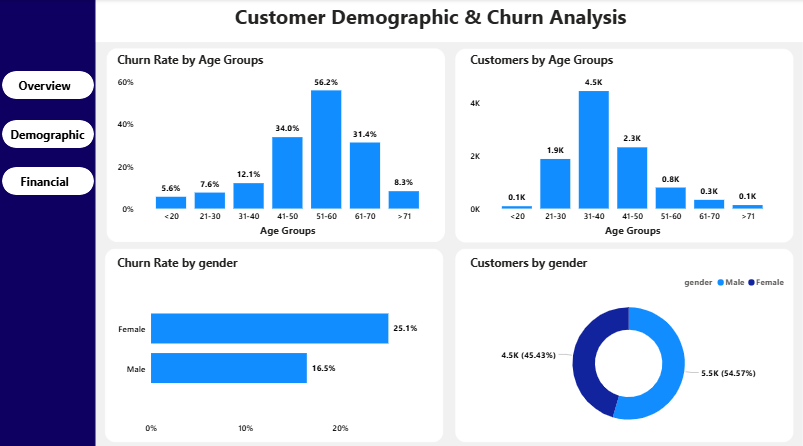

The dashboard page shown, as its layout file describes it:
{"tool":"powerbi","page":{"name":"Demograhpic","canvas":[1280,720],"ordinal":1},"visuals":[{"type":"clusteredColumnChart","fields":{"Y":["Measures (2).Churn Rate"],"Category":["Dim_Age Groups.Age Groups"]},"box":[181.7,83.3,516.7,300],"z":0},{"type":"clusteredColumnChart","fields":{"Category":["Dim_Age Groups.Age Groups"],"Y":["Measures (2).Customers"]},"box":[743.3,83.3,501.7,300],"z":1000},{"type":"clusteredBarChart","fields":{"Y":["Measures (2).Churn Rate"],"Category":["Dim_Gender.gender"]},"box":[181.7,406.7,505,295],"z":2000},{"type":"donutChart","fields":{"Y":["Measures (2).Customers"],"Category":["Dim_Gender.gender"]},"box":[743.3,406.7,515,295],"z":3000},{"type":"actionButton","box":[3.2,114.7,146.5,44.6],"z":4000},{"type":"actionButton","box":[3.2,192.7,146.5,44.6],"z":5000},{"type":"actionButton","box":[3.2,267.6,146.5,44.6],"z":6000},{"type":"textbox","box":[203.9,0,963.7,57.3],"z":7000}]}

Visuals, with their boxes in screenshot pixels (x1, y1, x2, y2), scaled from the page's 1280x720 canvas onto the 803x446 screenshot:
clusteredColumnChart - Measures (2).Churn Rate x Dim_Age Groups.Age Groups: region(114, 52, 438, 237)
clusteredColumnChart - Dim_Age Groups.Age Groups x Measures (2).Customers: region(466, 52, 781, 237)
clusteredBarChart - Measures (2).Churn Rate x Dim_Gender.gender: region(114, 252, 431, 435)
donutChart - Measures (2).Customers x Dim_Gender.gender: region(466, 252, 789, 435)
actionButton: region(2, 71, 94, 99)
actionButton: region(2, 119, 94, 147)
actionButton: region(2, 166, 94, 193)
textbox: region(128, 0, 732, 35)
